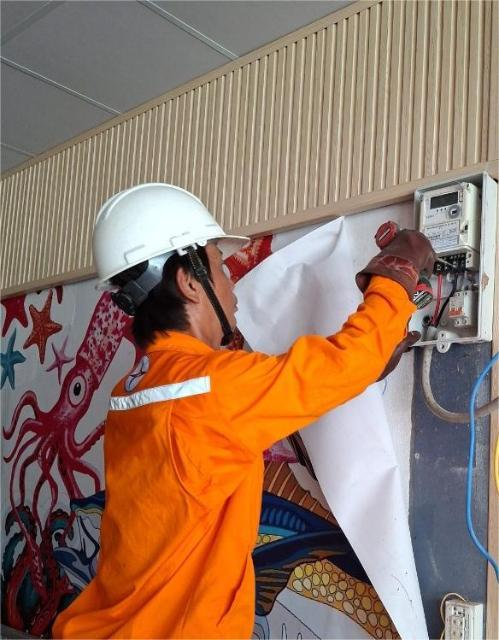gloves: (355, 201, 463, 310)
helmet: (86, 154, 234, 276)
